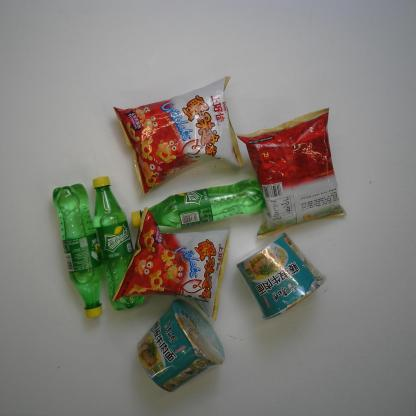Drink: (52, 182, 106, 320), (92, 174, 145, 312), (131, 178, 265, 228)
Instant Noodles: (134, 298, 226, 393), (236, 232, 328, 320)
Puffed Food: (112, 76, 244, 196), (236, 107, 347, 240), (111, 206, 232, 322)
